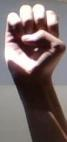E: (1, 1, 67, 80)
